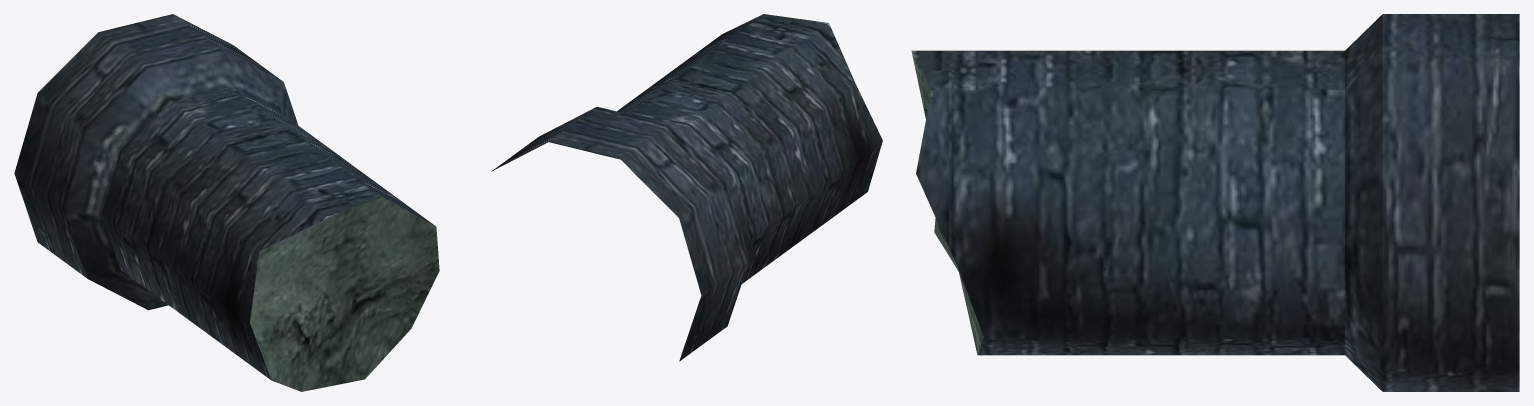
The picture shows the model from 3 angles, left to right: view 1: azimuth 30°, elevation 25°; view 2: azimuth 150°, elevation 25°; view 3: azimuth 270°, elevation 25°; orthographic projection. The views are drawn at different scales.
Visible parts, largest first — view 1: model_Object24; view 2: model_Object24; view 3: model_Object24.
Part boxes in pixels (left/top/right/bottom): model_Object24: left=14, top=14, right=439, bottom=391; model_Object24: left=491, top=14, right=882, bottom=361; model_Object24: left=911, top=14, right=1519, bottom=391.
Bounding box in the file's own units: 2.55 × 2.42 × 4.07.
2 materials, 2 textured.
